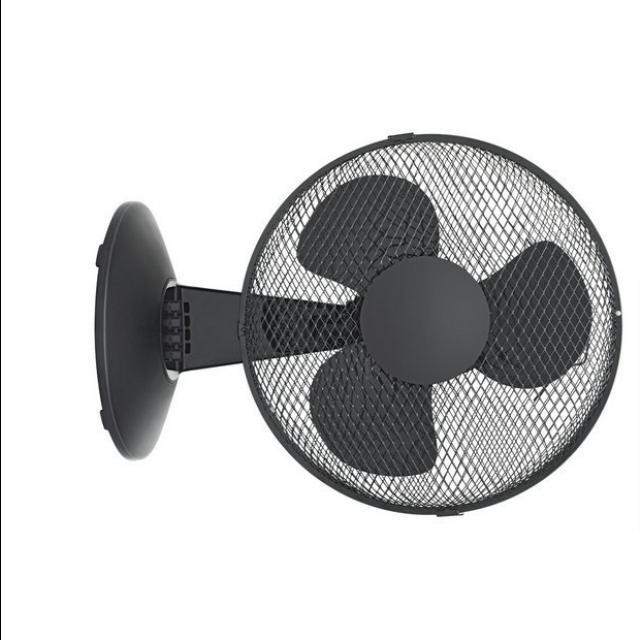fan: (91, 128, 623, 530)
